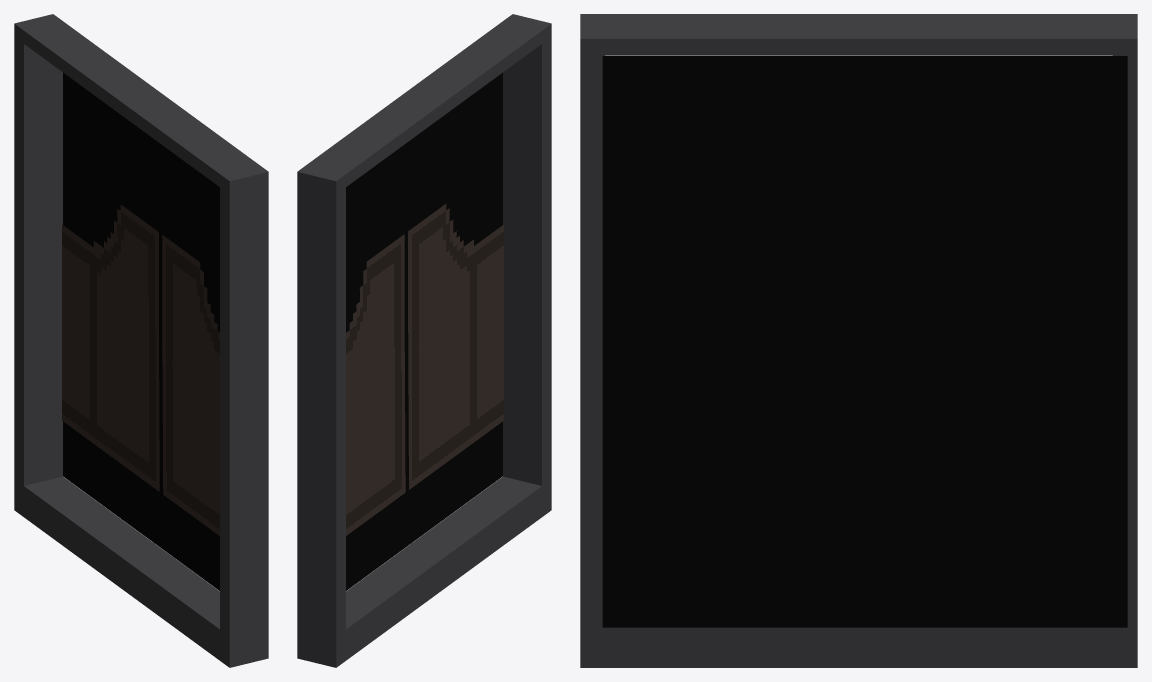
File: door_01.fbx
The picture shows the model from 3 angles, left to right: view 1: azimuth 30°, elevation 25°; view 2: azimuth 150°, elevation 25°; view 3: azimuth 270°, elevation 25°; orthographic projection. The views are drawn at different scales.
Parts seen in each view (by area): view 1: Cube.193; view 2: Cube.193; view 3: Cube.193.
Part boxes in pixels (<box>): Cube.193: <box>14,14,268,667</box>; Cube.193: <box>297,14,551,667</box>; Cube.193: <box>580,14,1137,667</box>.
Size of the model in its own units: 31.91 by 378 by 303.
